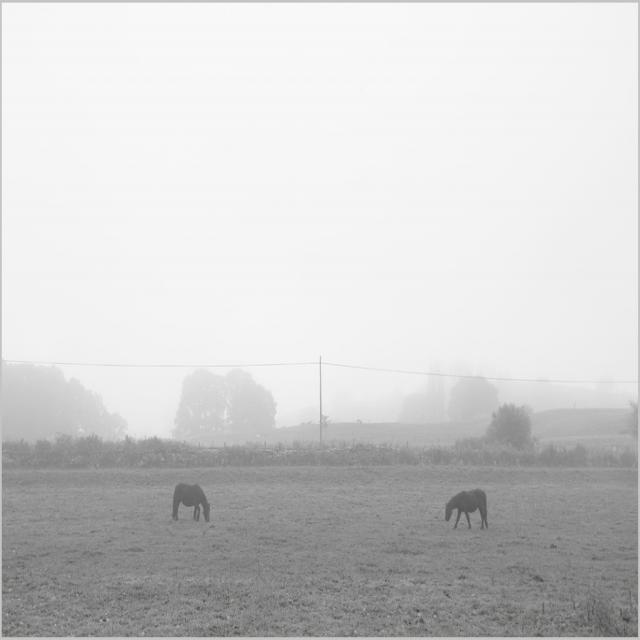Horse: (445, 488, 488, 533), (170, 484, 212, 523)
